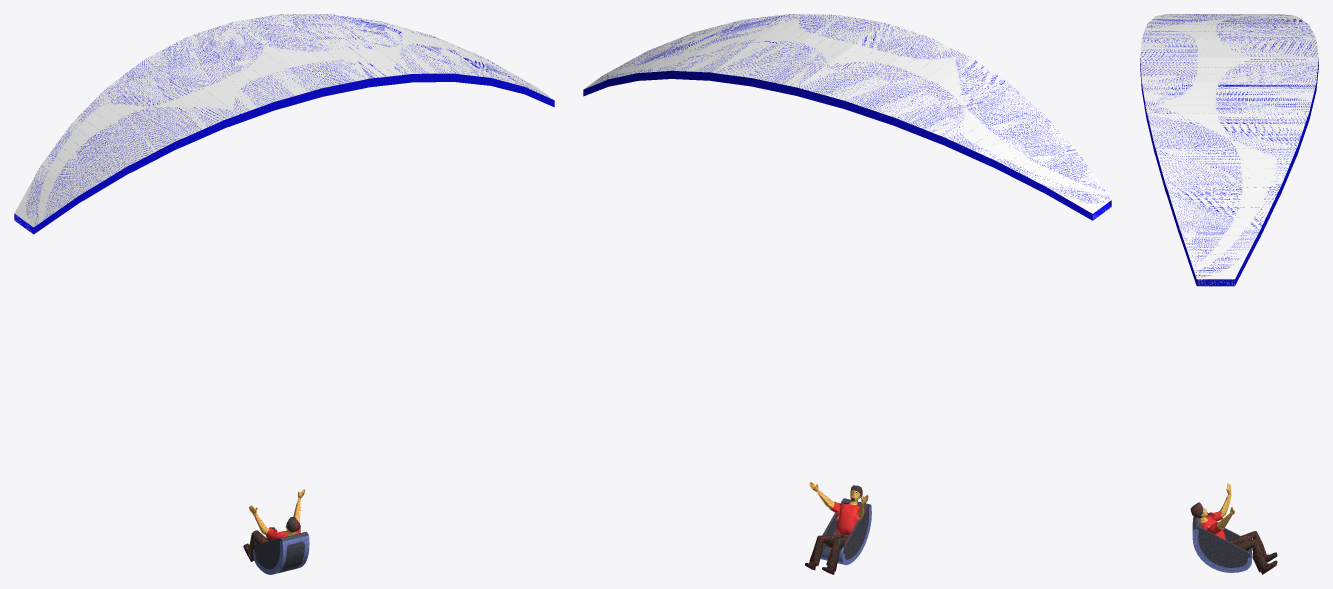
3 renders of one model, left to right at view 1: azimuth 30°, elevation 25°; view 2: azimuth 150°, elevation 25°; view 3: azimuth 270°, elevation 25°, orthographic. The views are drawn at different scales.
Parts seen in each view (by area): view 1: SketchUp (×3); view 2: SketchUp (×4); view 3: SketchUp (×5).
Part boxes in pixels (x1,y1,x2,y2): SketchUp (×3): (14, 14, 554, 569); SketchUp (×4): (583, 14, 1111, 571); SketchUp (×5): (1140, 14, 1318, 572).
Size of the model in its own units: 363 by 109 by 344.
13 materials, 4 textured.
